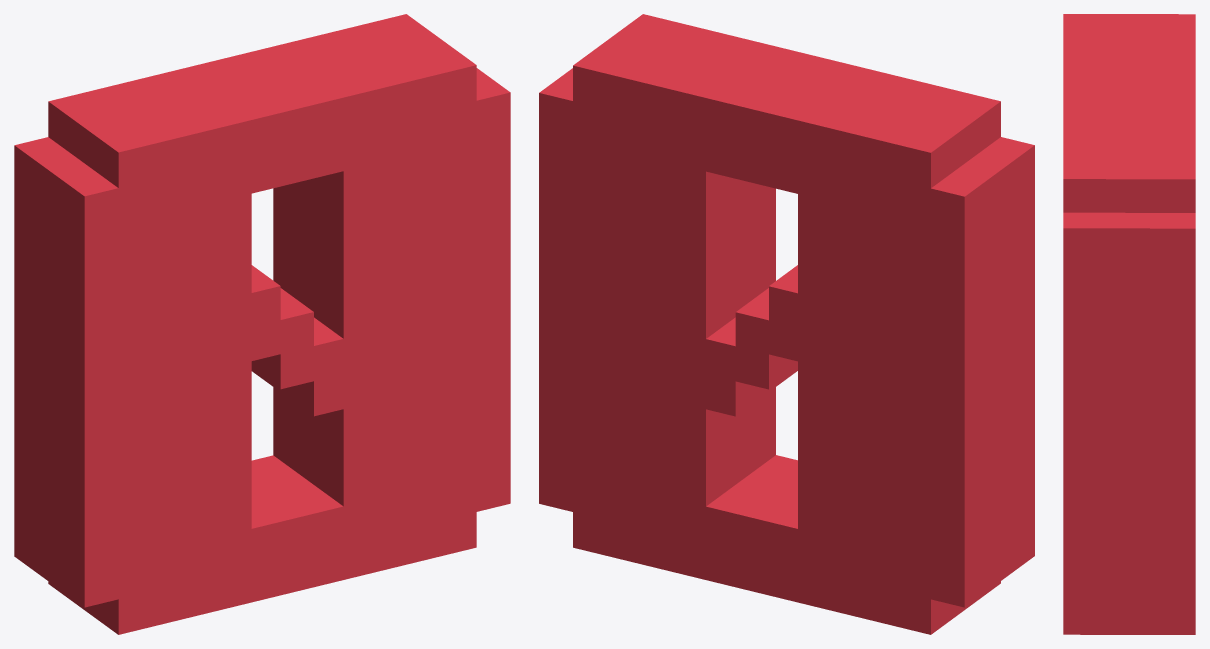
File: zero.glb
The picture shows the model from 3 angles, left to right: view 1: azimuth 30°, elevation 25°; view 2: azimuth 150°, elevation 25°; view 3: azimuth 270°, elevation 25°; orthographic projection. The views are drawn at different scales.
Parts seen in each view (by area): view 1: zero; view 2: zero; view 3: zero.
Part boxes in pixels (<box>): zero: <box>14,14,510,634</box>; zero: <box>539,14,1034,634</box>; zero: <box>1063,14,1195,634</box>.
Size of the model in its own units: 1.75 by 1.9 by 0.5.
